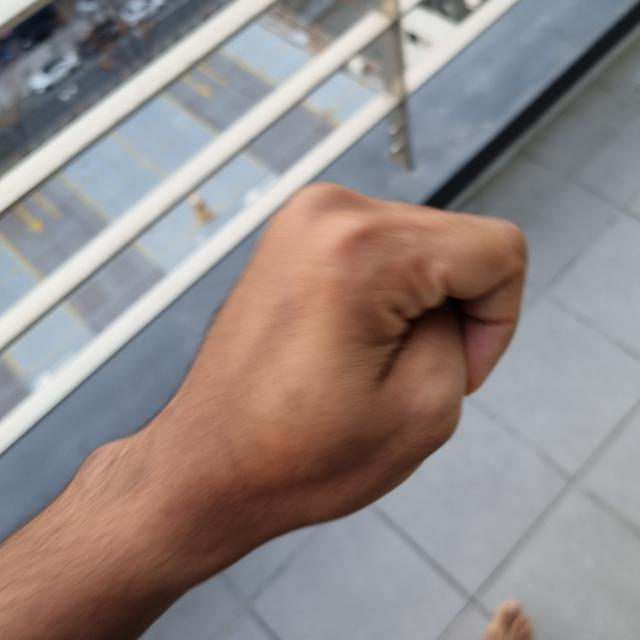Rock: (160, 184, 528, 530)
